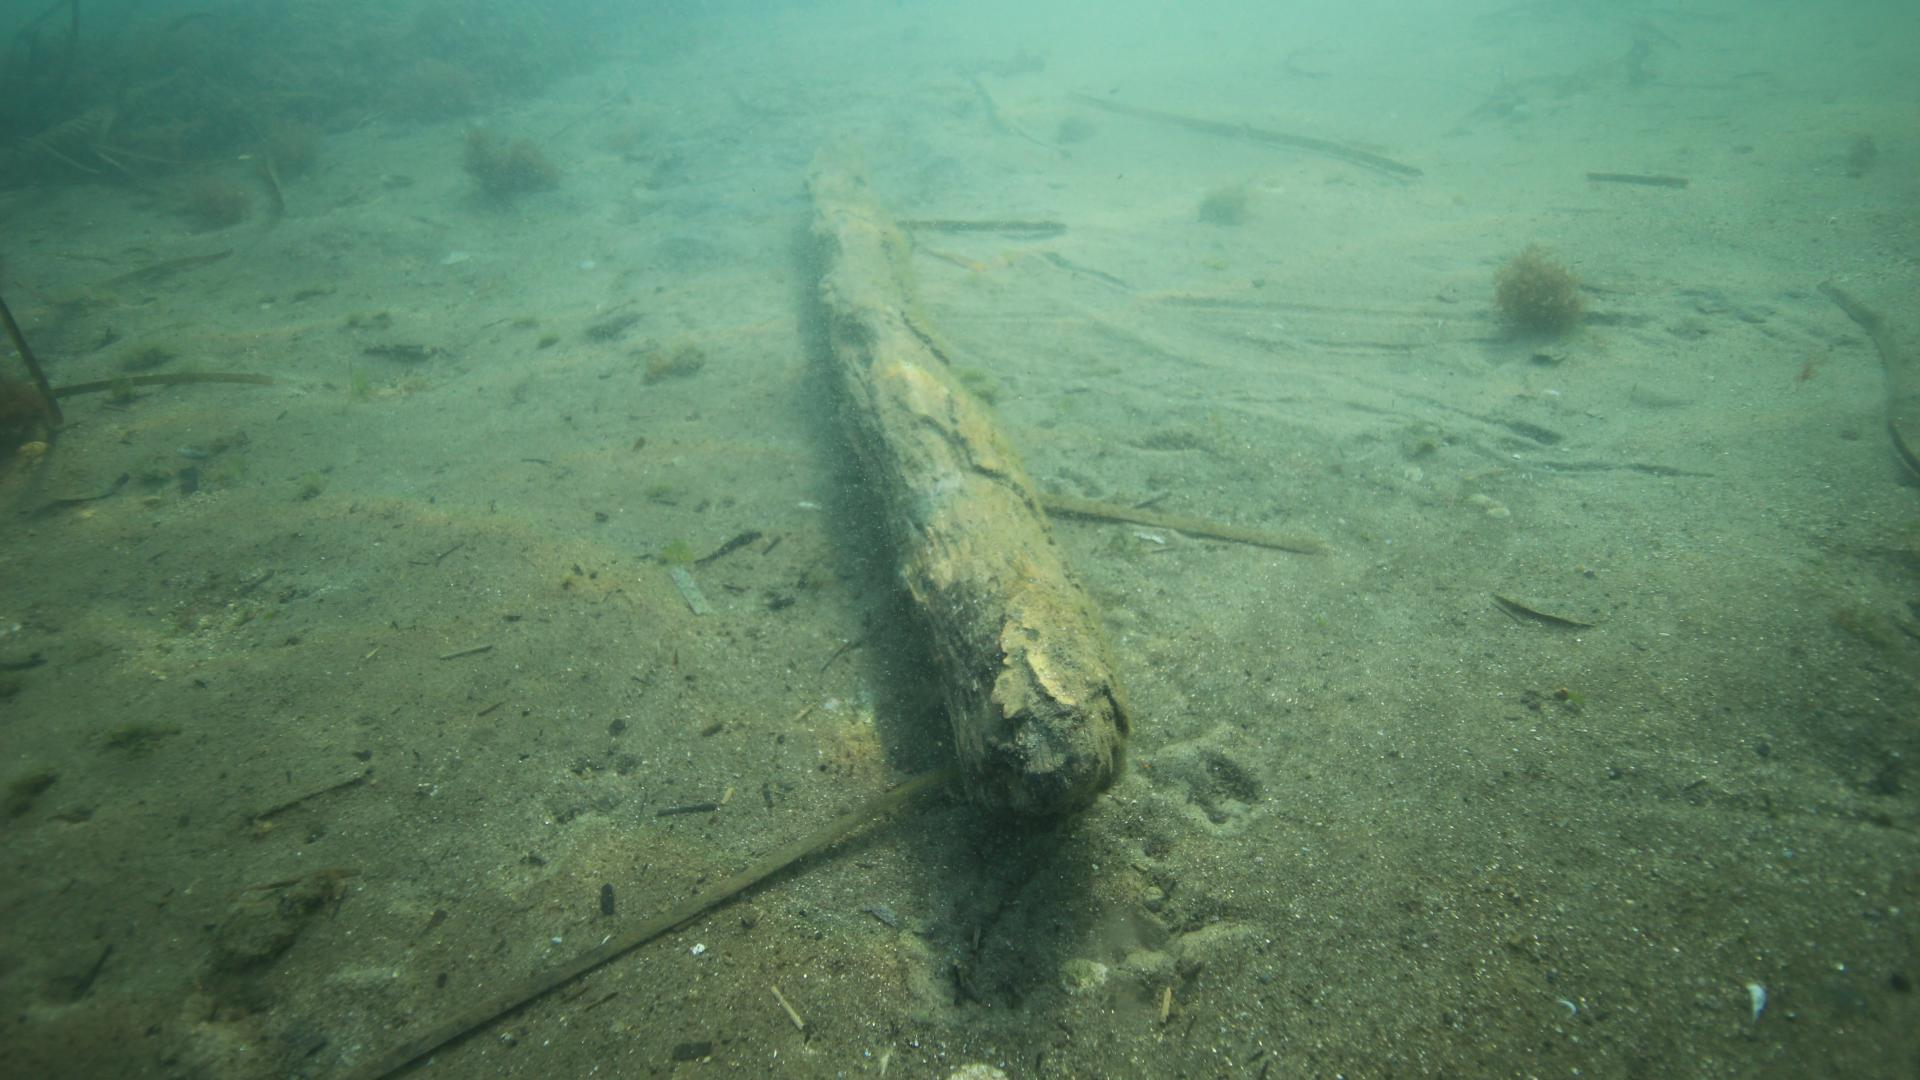wood: (799, 142, 1130, 837)
